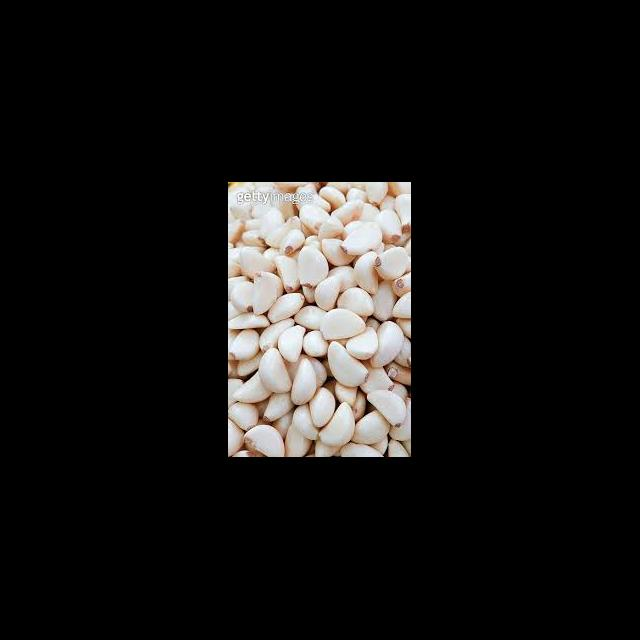garlic: (316, 212, 411, 308), (322, 340, 406, 444), (238, 244, 339, 318), (228, 330, 318, 406)
